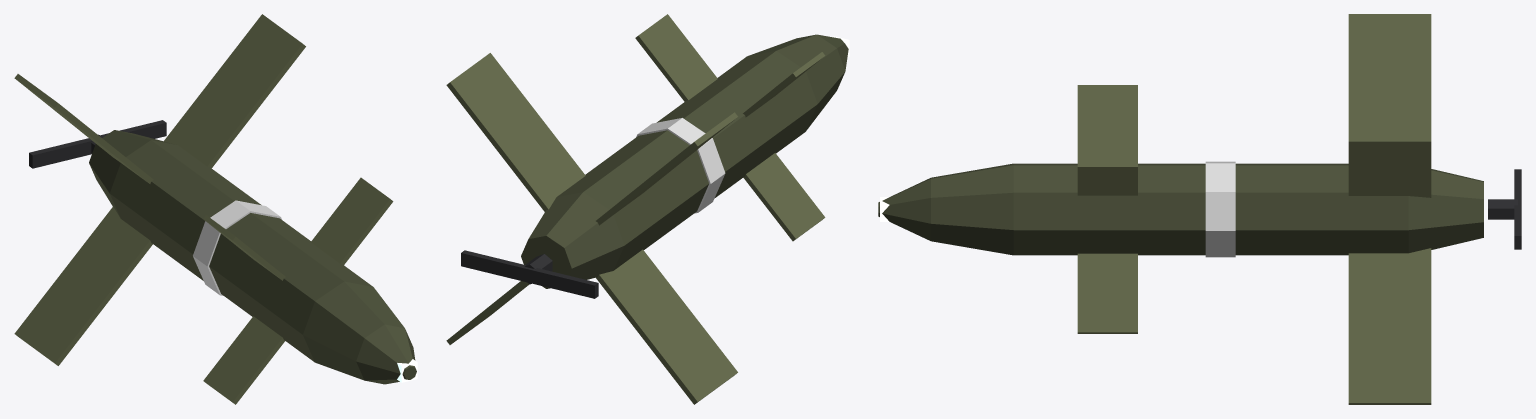
File: drone_kamikaze.glb
3 views of the same model, side by side, from view 1: azimuth 30°, elevation 25°; view 2: azimuth 150°, elevation 25°; view 3: azimuth 270°, elevation 25° (orthographic). The views are drawn at different scales.
Visible parts, largest first — view 1: Body; view 2: Body; view 3: Body.
Boxes of the visible parts, x1,y1,x2,y2 form: Body: (14, 14, 417, 404); Body: (446, 14, 849, 404); Body: (878, 14, 1521, 404).
Bounding box in the file's own units: 0.7891 × 0.7891 × 1.71.
